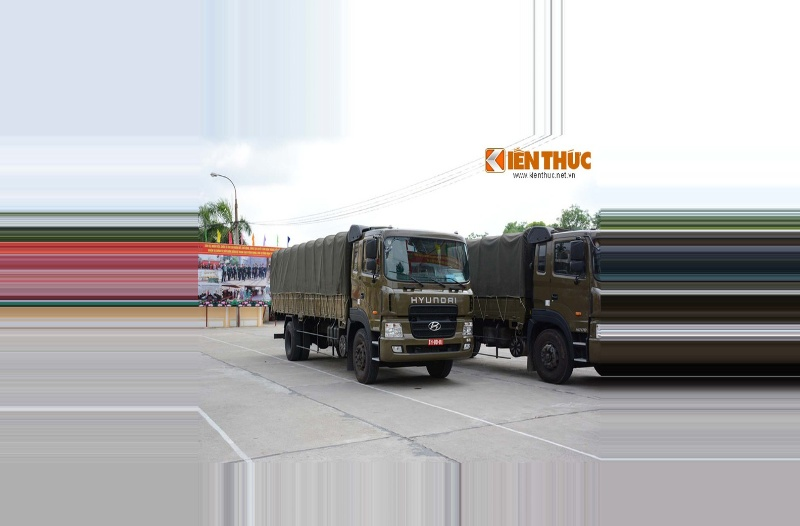plate: (426, 339, 447, 346)
